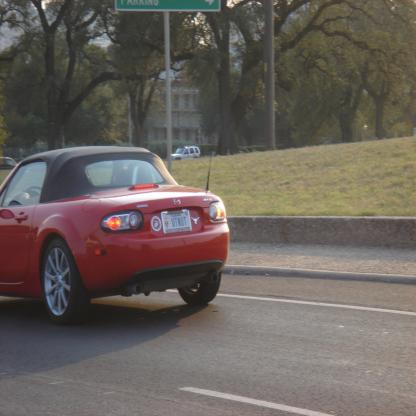Car: (0, 136, 230, 326)
